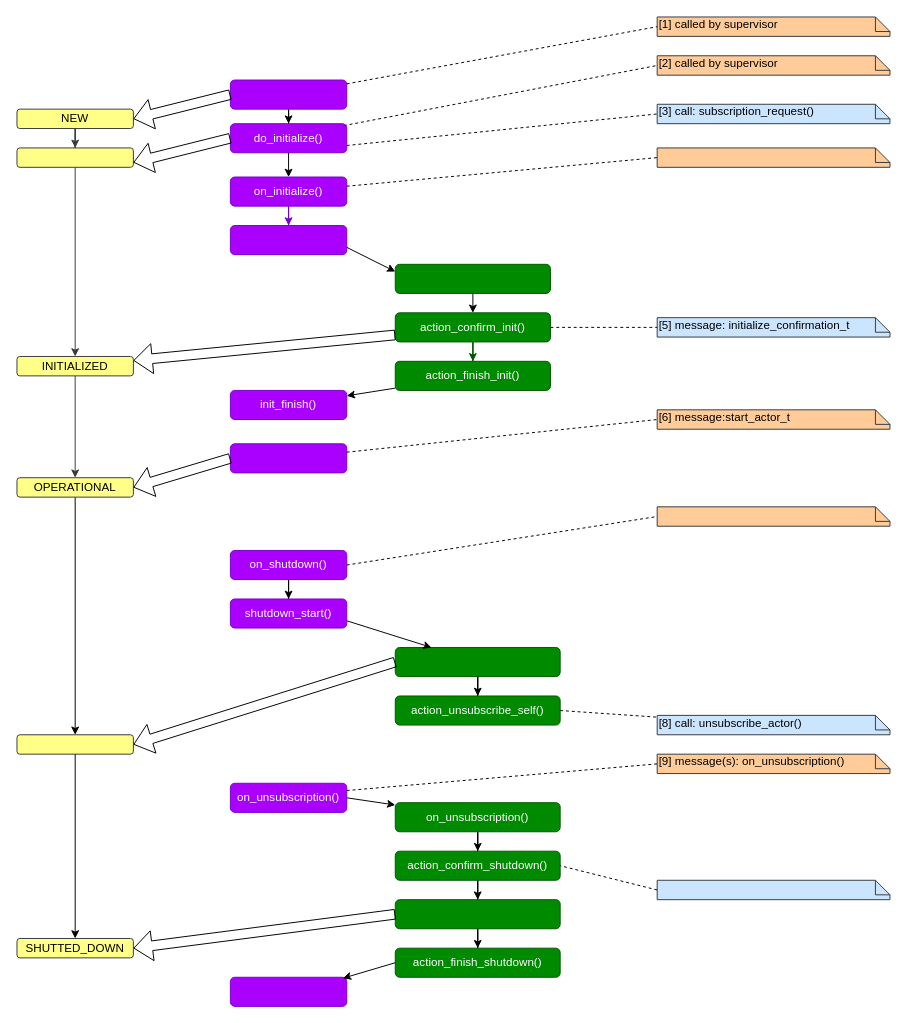
Image size: 907x1023. Some labels were removed from this diagram. Each missing label, with the centre of its shape:
[10] message: shutdown_confirmation_t: the point at 773,889
[4] message: init_request_t: the point at 773,157
[7] message:shutdown_request_t: the point at 773,516
action_commit_shutdown(): the point at 477,914
constructor(): the point at 288,94
init_start(): the point at 288,240
INITIALIZING: the point at 74,157
on_start(): the point at 288,458
on_start_init(): the point at 472,278
on_start_shutdown(): the point at 477,662
shutdown_finish(): the point at 288,991
SHUTTING_DOWN: the point at 74,744
